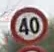limite 40: (8, 5, 49, 43)
